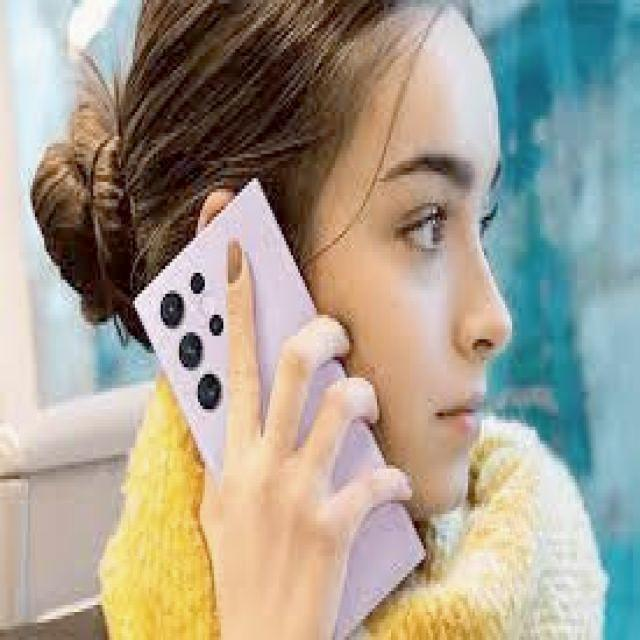lens: (159, 270, 235, 411)
phone: (135, 182, 428, 630)
